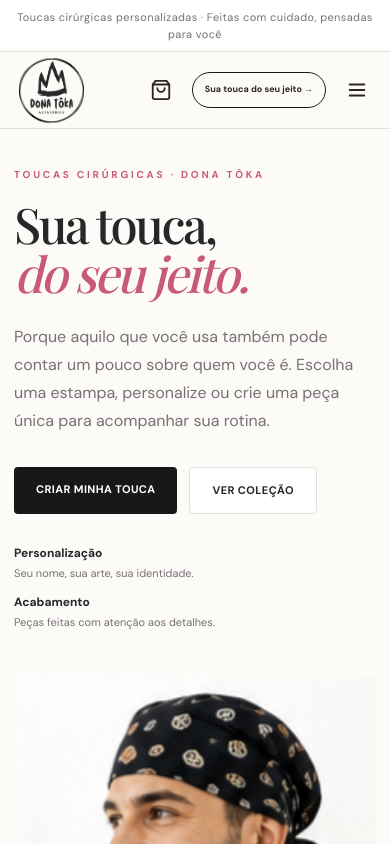
Scenario: MobileNav keyboard and focus behavior › opens the menu when the toggle button is clicked and exposes nav links
The image size is (390, 844).
Click the button named "abrir menu" at (357,90), box [338,71,376,109]
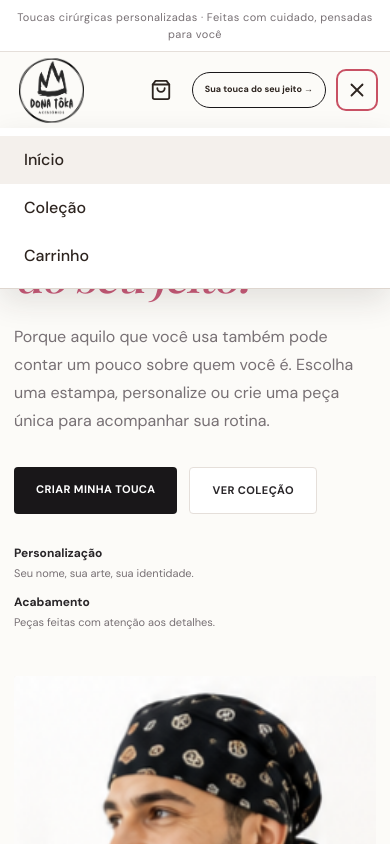
Check: the dialog named "menu de navegação" is shown, box [0,128,389,289]
Check: the link "Início" is shown, box [0,136,389,184]
Check: the link "Coleção" is shown, box [24,197,86,218]
